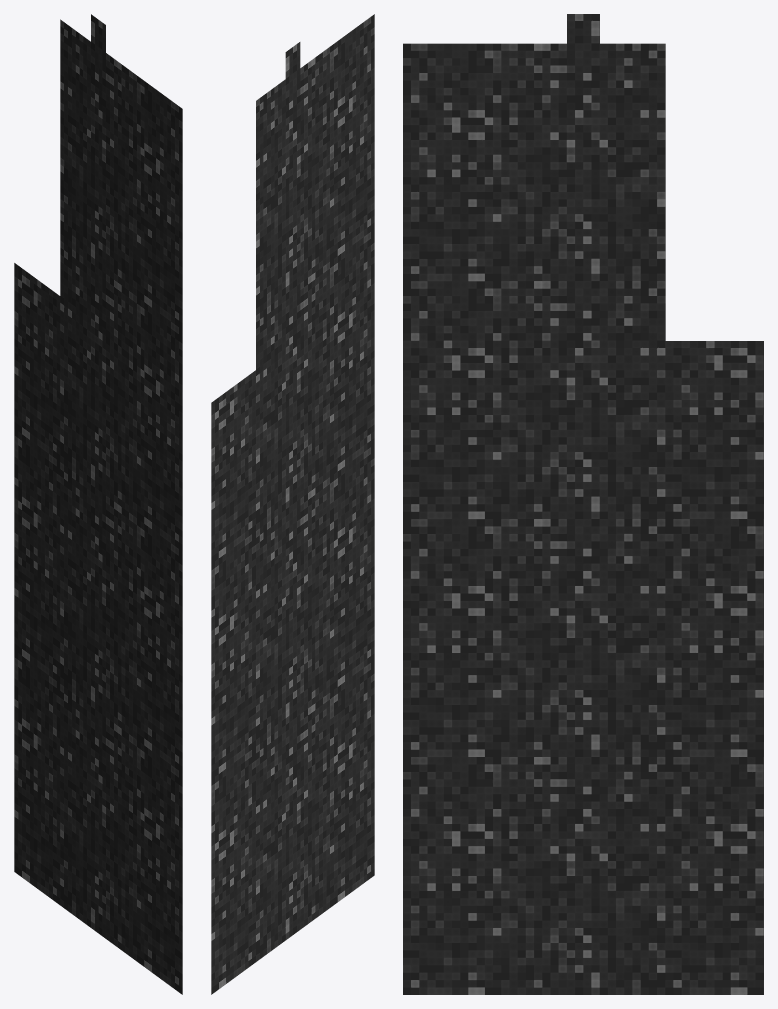
File: 2DCover000.obj
The picture shows the model from 3 angles, left to right: view 1: azimuth 30°, elevation 25°; view 2: azimuth 150°, elevation 25°; view 3: azimuth 270°, elevation 25°; orthographic projection. The views are drawn at different scales.
Visible parts, largest first — view 1: shape0__Dot2D_rep; view 2: shape0__Dot2D_rep; view 3: shape0__Dot2D_rep.
Boxes of the visible parts, x1,y1,x2,y2 form: shape0__Dot2D_rep: [14, 14, 182, 994]; shape0__Dot2D_rep: [211, 14, 374, 994]; shape0__Dot2D_rep: [403, 14, 763, 994].
Size of the model in its own units: 2.03 by 3300 by 1100.
Materials: 2 (1 with a texture image).
